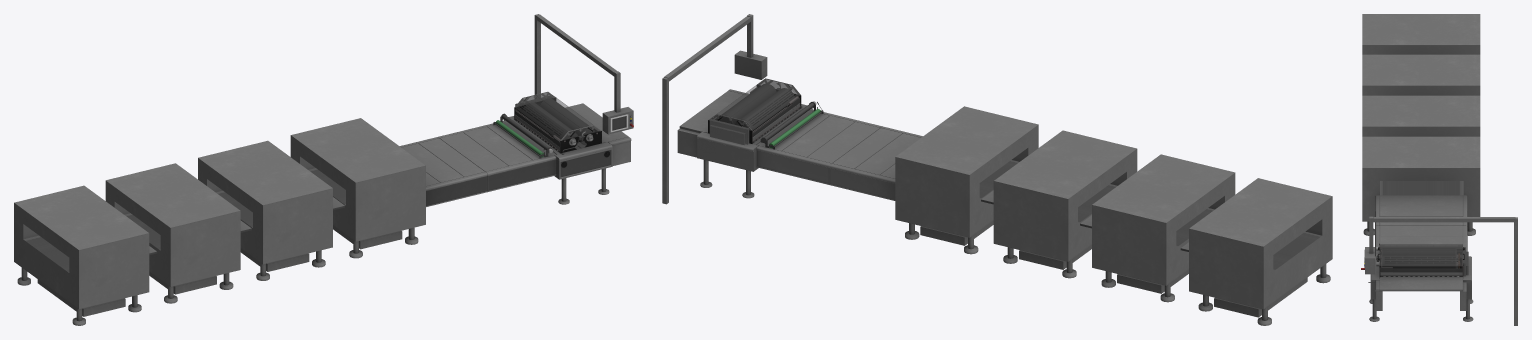
Rendered from laminadora.fbx.
3 renders of one model, left to right at view 1: azimuth 30°, elevation 25°; view 2: azimuth 150°, elevation 25°; view 3: azimuth 270°, elevation 25°, orthographic. The views are drawn at different scales.
Visible parts, largest first — view 1: polySurface690, polySurface601, polySurface670, polySurface680, polySurface41 (×2), polySurface623, polySurface597, polySurface596, polySurface646, polySurface622, polySurface595, polySurface599 (+12 smaller); view 2: polySurface690, polySurface670, polySurface601, polySurface680, polySurface41 (×2), polySurface608, polySurface597, polySurface596, polySurface651, polySurface605, polySurface595, polySurface599 (+13 smaller); view 3: polySurface601, polySurface670, polySurface680, polySurface690, polySurface43 (×2), polySurface649, polySurface41 (×2), polySurface590, polySurface598, polySurface599, polySurface597, polySurface596 (+16 smaller).
Boxes of the visible parts, <box> form: polySurface690: <box>14,185,149,309</box>; polySurface601: <box>290,118,425,241</box>; polySurface670: <box>198,140,332,264</box>; polySurface680: <box>105,163,240,286</box>; polySurface41 (×2): <box>523,92,592,131</box>; polySurface623: <box>487,159,556,191</box>; polySurface597: <box>440,132,508,171</box>; polySurface596: <box>463,127,532,165</box>; polySurface646: <box>554,148,612,179</box>; polySurface622: <box>426,176,487,206</box>; polySurface595: <box>419,138,484,176</box>; polySurface599: <box>402,143,463,182</box>; polySurface690: <box>1189,178,1332,309</box>; polySurface670: <box>993,130,1137,261</box>; polySurface601: <box>895,106,1038,237</box>; polySurface680: <box>1092,154,1235,285</box>; polySurface41 (×2): <box>717,78,791,120</box>; polySurface608: <box>756,150,829,184</box>; polySurface597: <box>807,122,879,163</box>; polySurface596: <box>782,115,854,157</box>; polySurface651: <box>697,138,758,171</box>; polySurface605: <box>829,168,895,200</box>; polySurface595: <box>832,128,902,168</box>; polySurface599: <box>855,133,920,174</box>; polySurface601: <box>1362,136,1480,221</box>; polySurface670: <box>1362,95,1480,136</box>; polySurface680: <box>1362,54,1480,95</box>; polySurface690: <box>1362,14,1480,54</box>; polySurface43 (×2): <box>1380,244,1462,266</box>; polySurface649: <box>1379,279,1462,291</box>; polySurface41 (×2): <box>1380,244,1462,255</box>; polySurface590: <box>1382,256,1455,268</box>; polySurface598: <box>1379,195,1462,205</box>; polySurface599: <box>1379,206,1462,216</box>; polySurface597: <box>1379,226,1462,236</box>; polySurface596: <box>1379,236,1462,246</box>.
Bounding box in the file's own units: 227 × 45.86 × 60.59.
3 materials, 2 textured.
